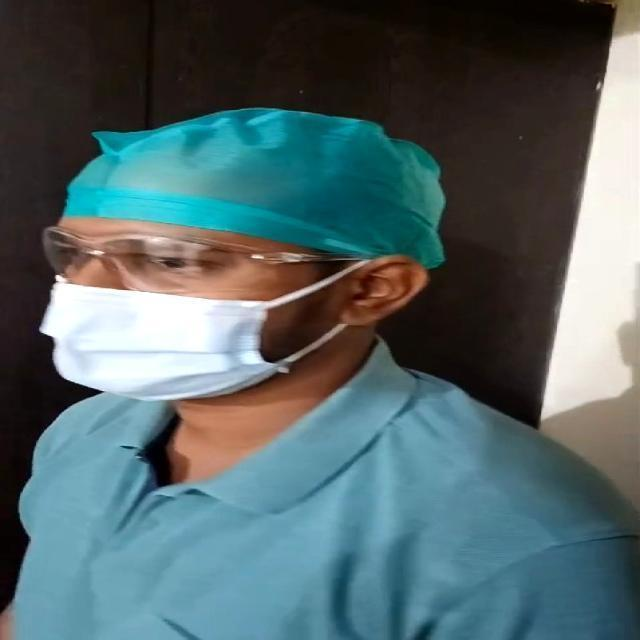gloves: (49, 118, 437, 256)
mask: (43, 284, 298, 416)
